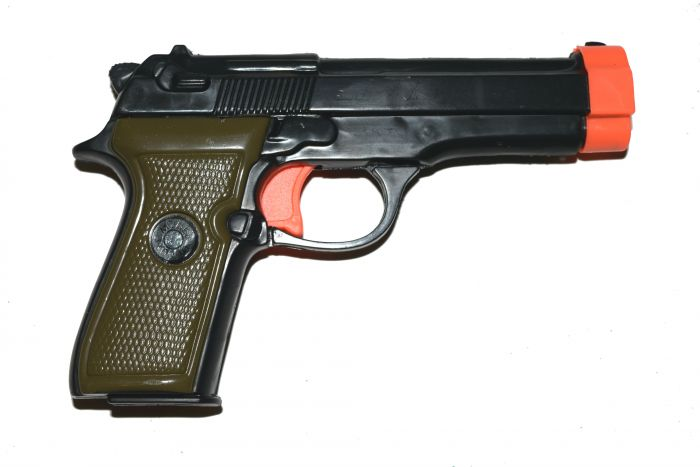Arma Falsa: (66, 41, 647, 425)
